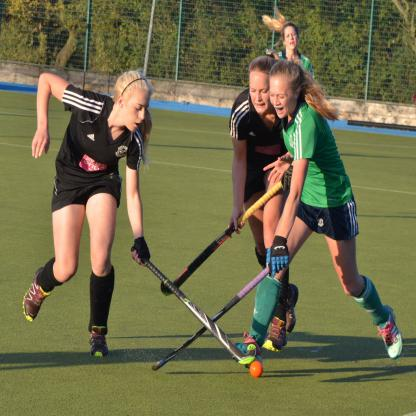Ball: (250, 362, 264, 378)
